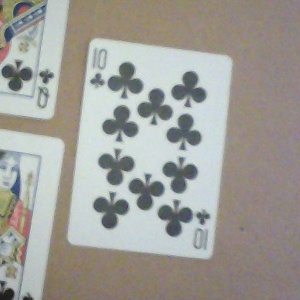card: (66, 39, 233, 261)
